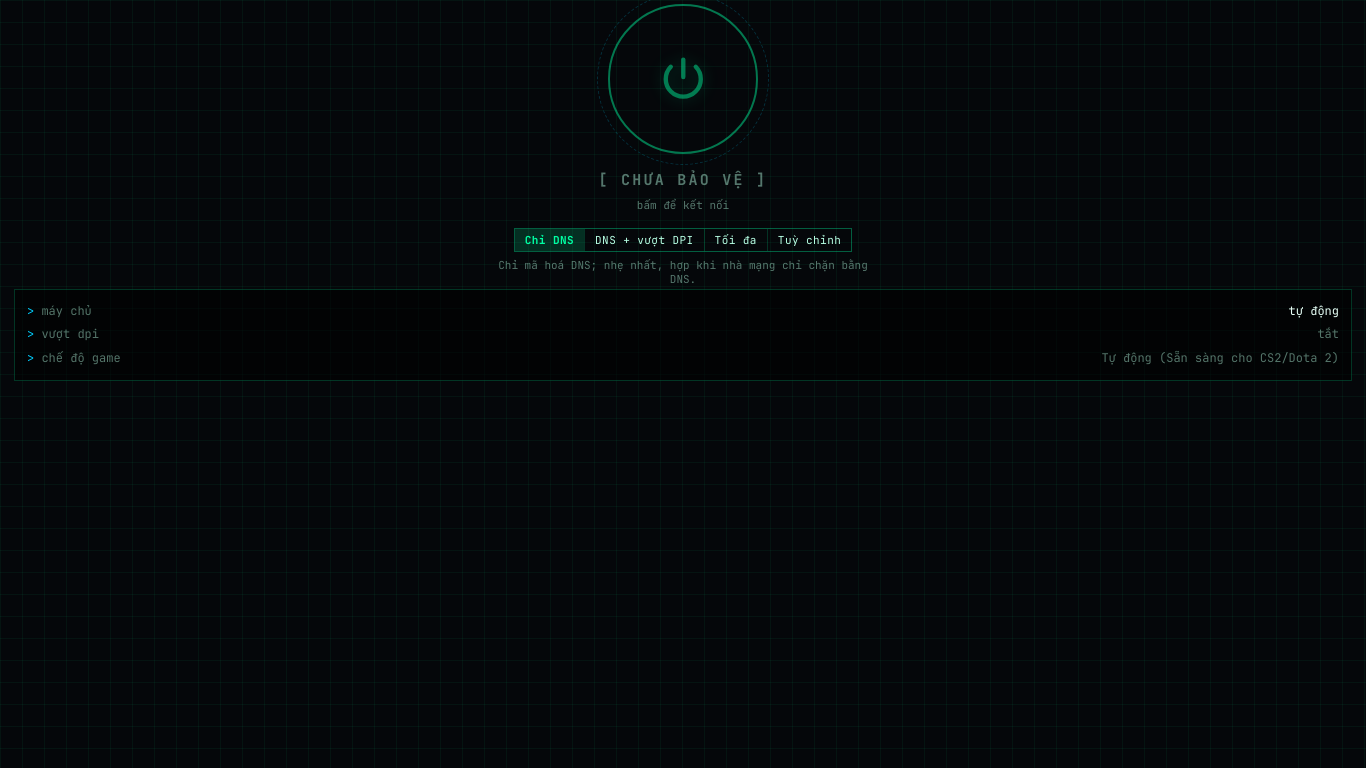
Scenario: an error is shown and the level stays
The image size is (1366, 768).
Click the radio button labelled "DNS + vượt DPI" at {"x": 644, "y": 240}, box [584, 229, 704, 251]
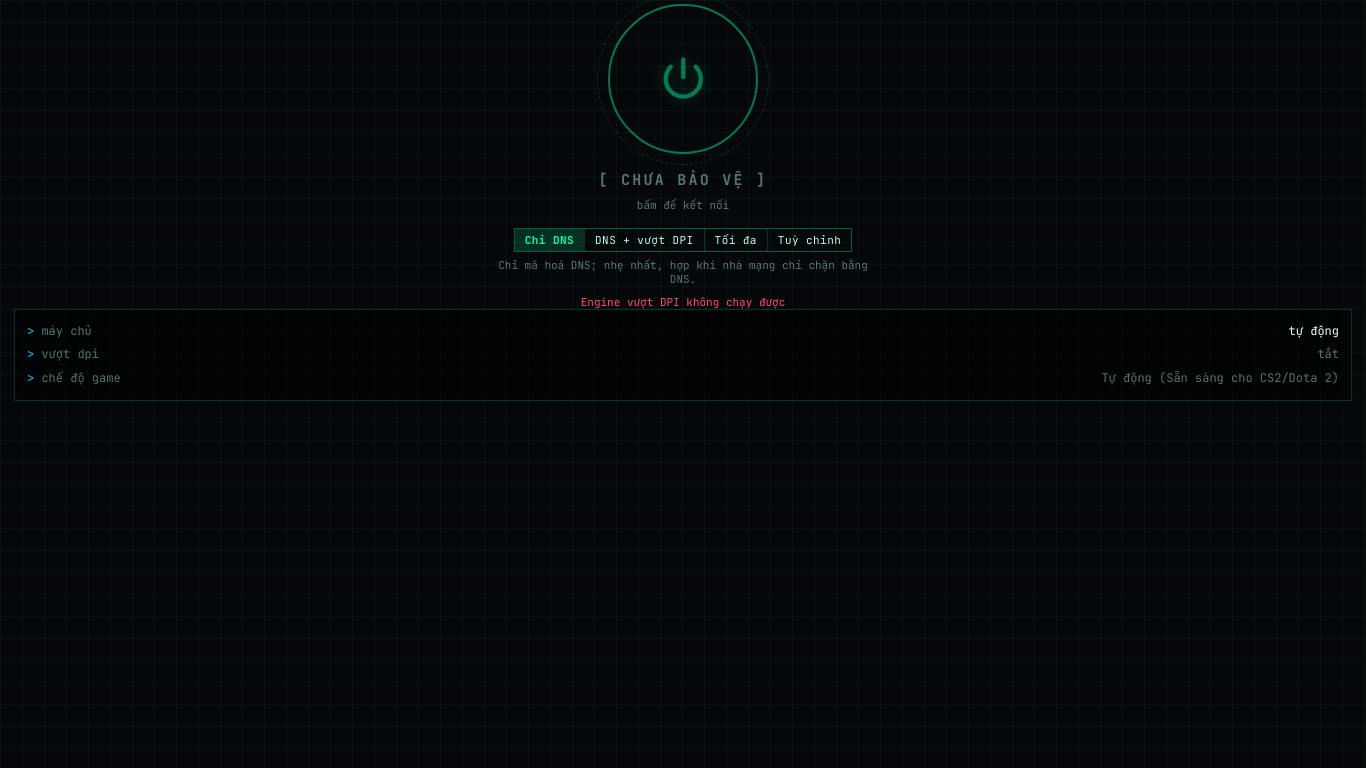
Expected: the message "Engine vượt DPI không chạy được" is shown, [581, 295, 785, 309]
